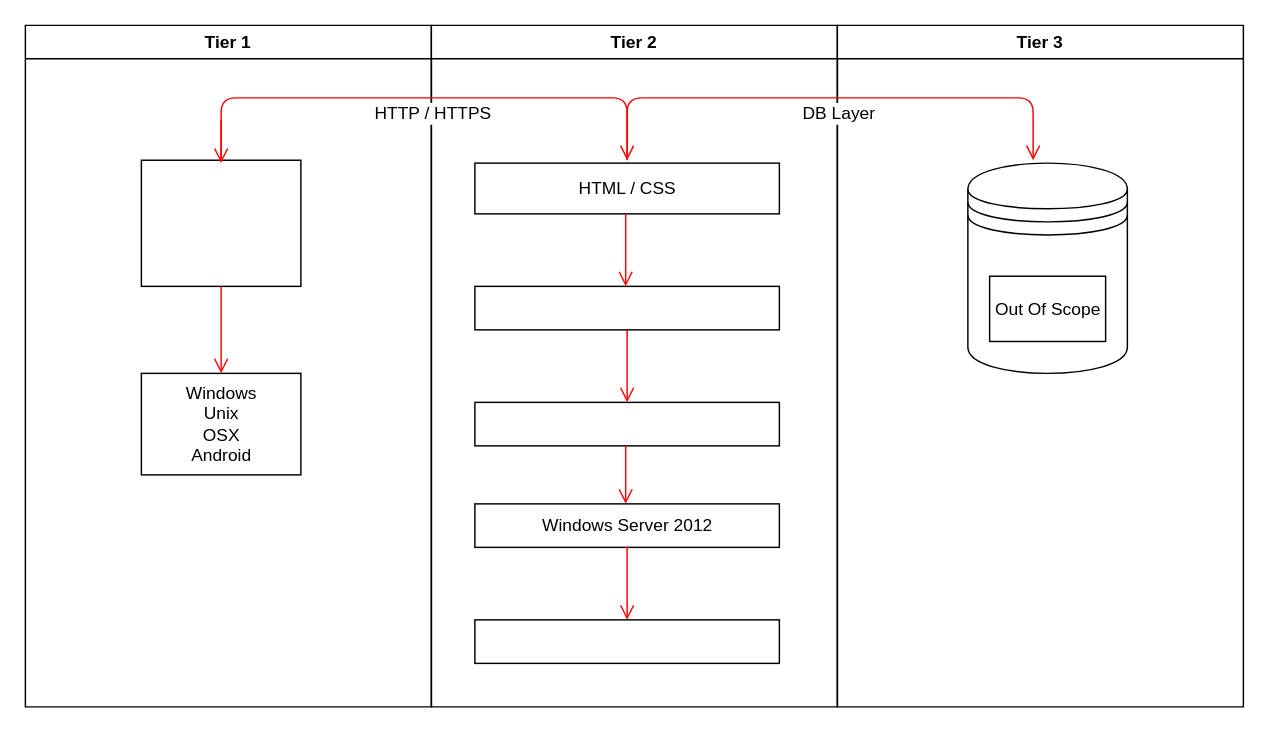
This 1269x732 diagram has some shape labels left out. Each missing label, with the centre of its shape:
AWS Virtual Machine: the point at 626,640
Browser Chrome / Firefox Edge / IE: the point at 220,222
ES5 / TypeScript / JavaScript: the point at 626,307
NodeJS: the point at 626,423
